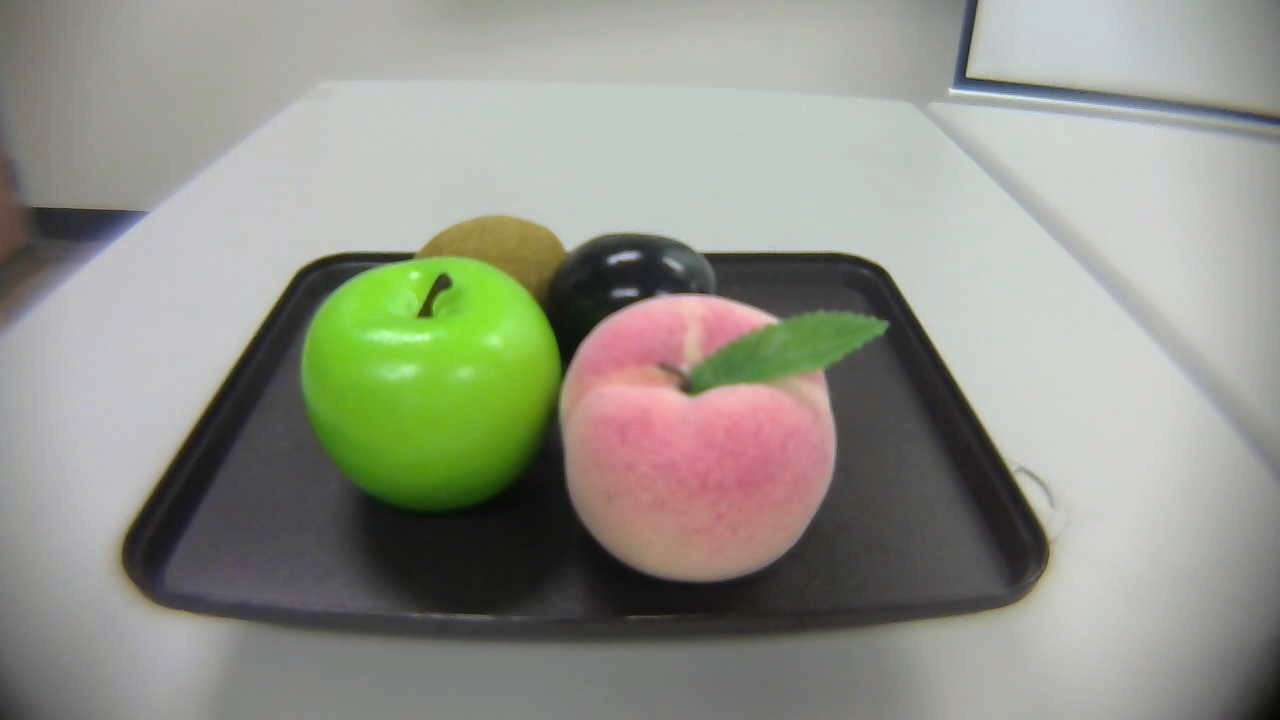green apple: (285, 248, 572, 529)
kiwi fruit: (410, 207, 571, 311)
mangosteen: (530, 230, 732, 356)
peach: (553, 278, 903, 593)
